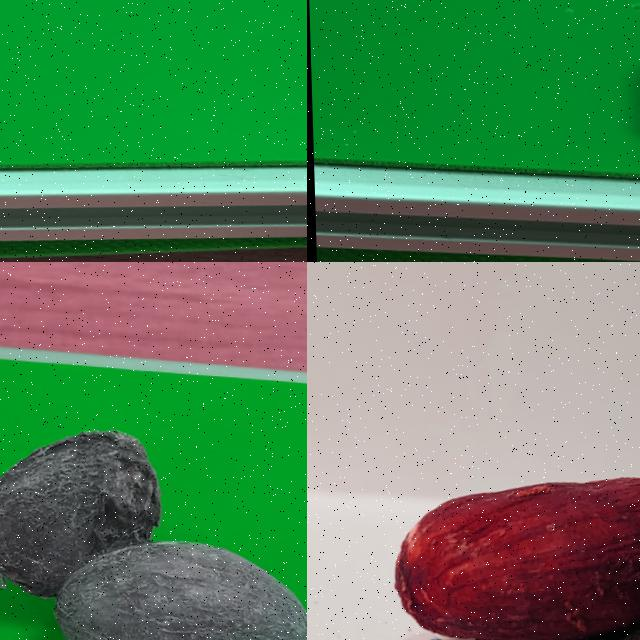Agglomerated_cocoabeans: (0, 395, 306, 639), (359, 432, 639, 639)
Fine_cocoabeans: (228, 0, 306, 193)
